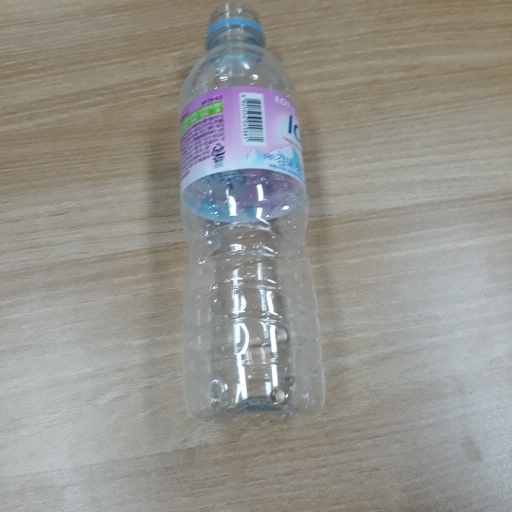Plastic_0: (169, 1, 328, 425)
